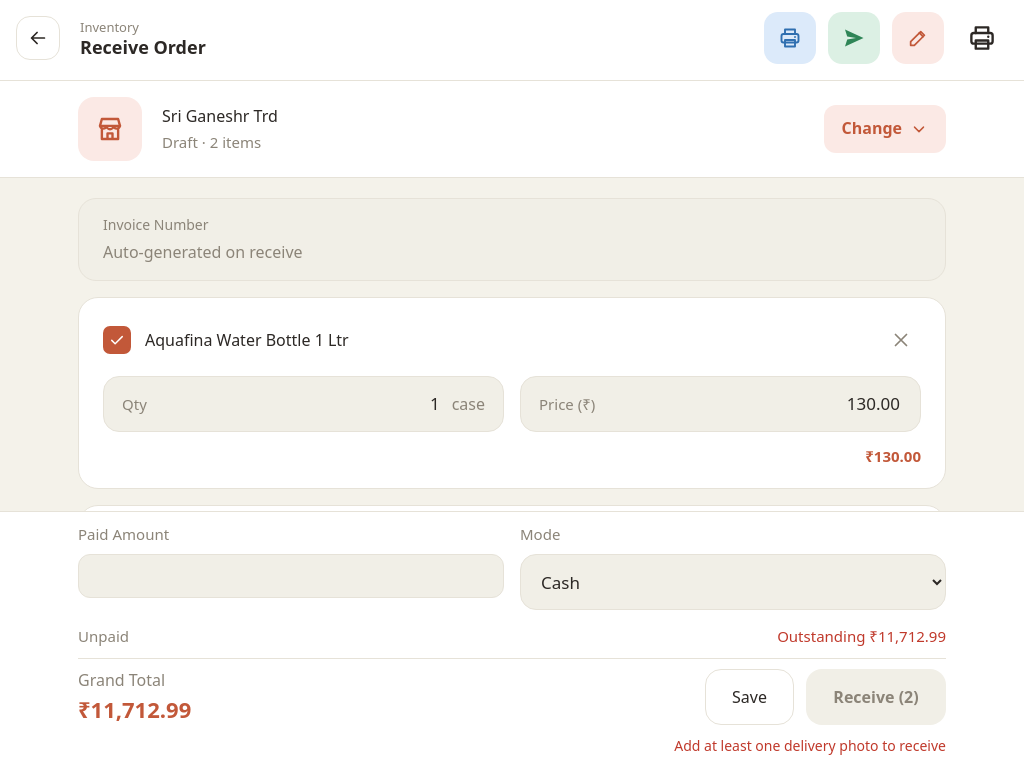
Test: Send to supplier › SND-1. message then PDF, each confirmed; marked sent only once the PDF went
This screenshot has width=1024, height=768.
Expected: the heading "Receive Order" is shown, [80,37,206,58]
Click the button named "Send on WhatsApp".
click(854, 38)  # box [828,12,880,64]
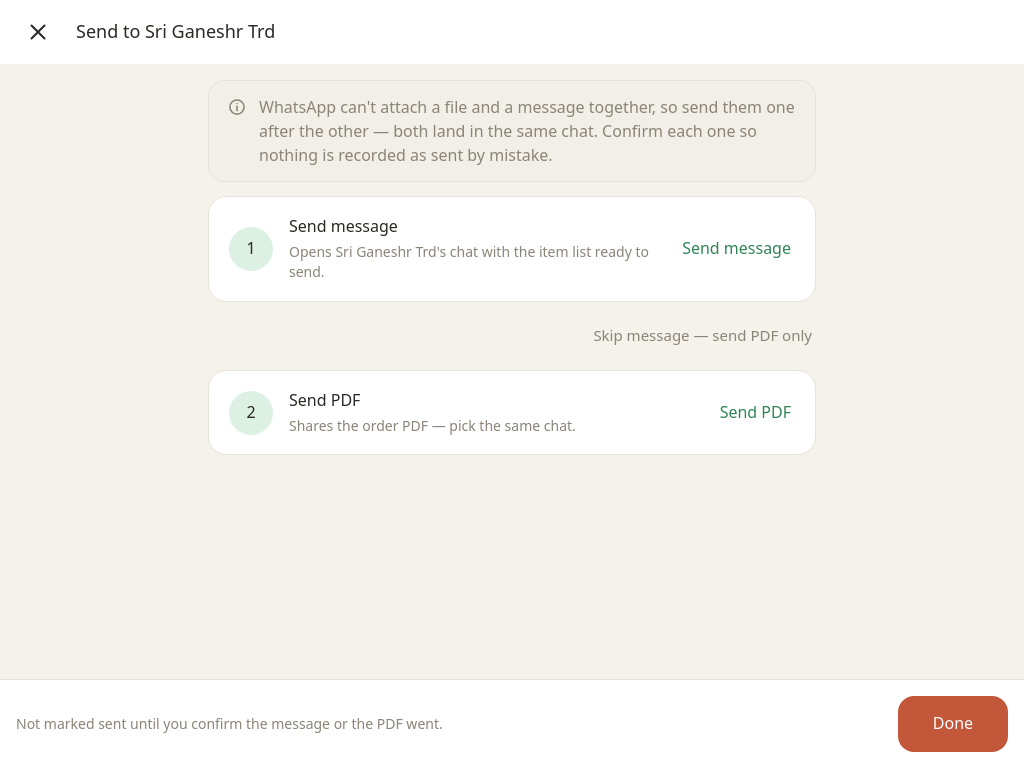
Click the button "Send message".
click(737, 249)  # box [678,227,795,271]
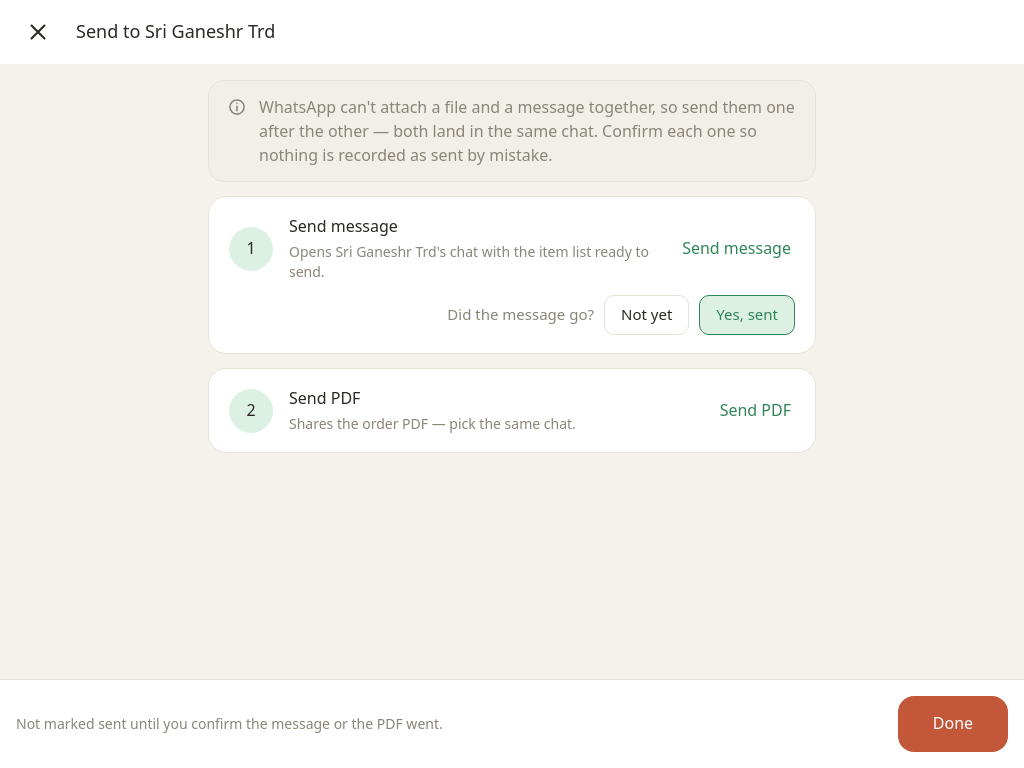
Now the text "Not marked sent until you confirm the message or the PDF went." is shown, box [16,714,443,734]
Click the button "Yes, sent".
click(747, 315)  # box [699,295,795,335]
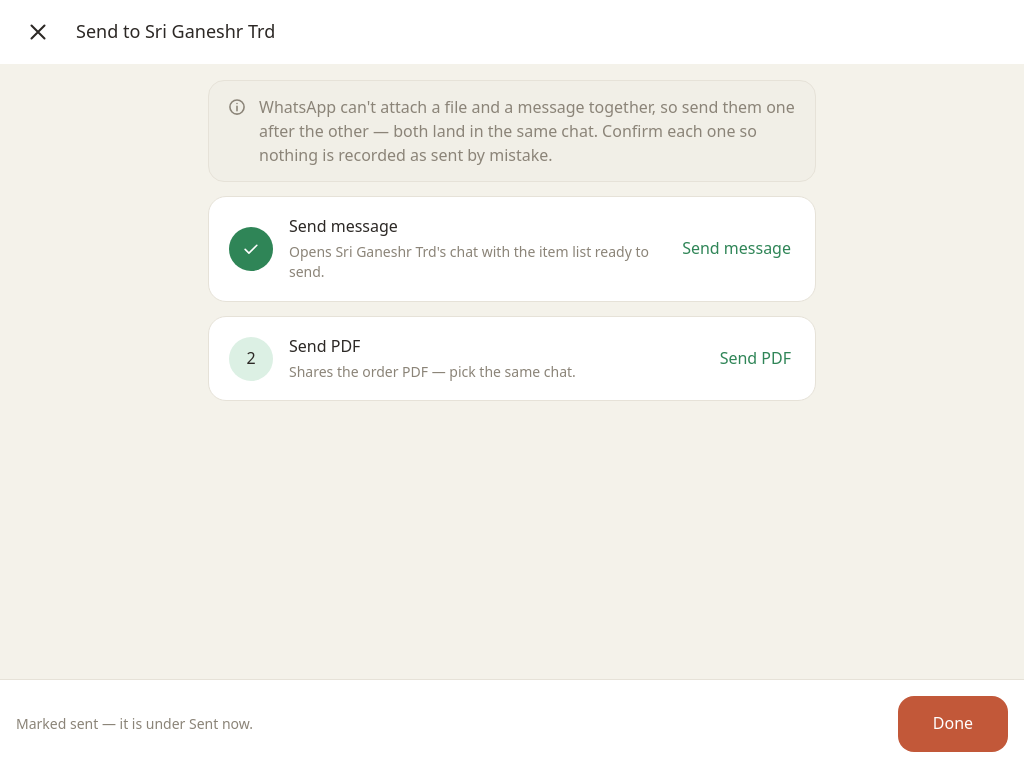
Expected: the button "Skip message — send PDF only" is not shown
Now the text "Marked sent — it is under Sent now." is shown, box [16,714,253,734]
Click the button "Send PDF".
click(755, 358)  # box [716,336,795,380]
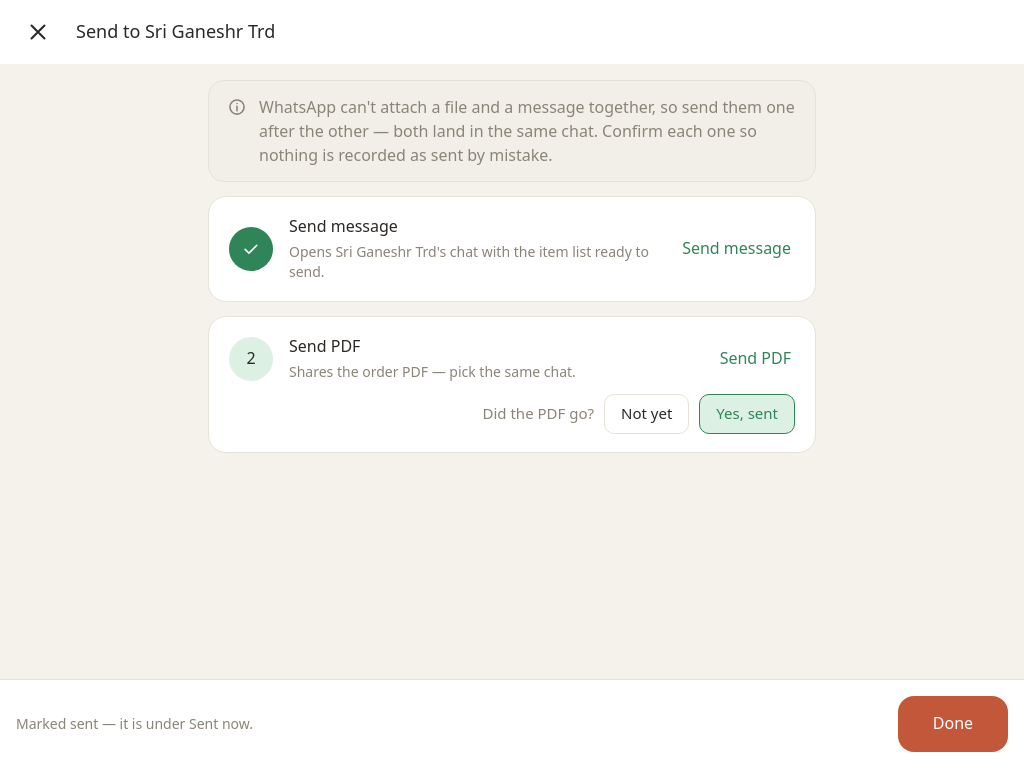
Now the text "Did the PDF go?" is shown, box [482,403,594,425]
Click the button "Yes, sent".
click(747, 414)  # box [699,394,795,434]
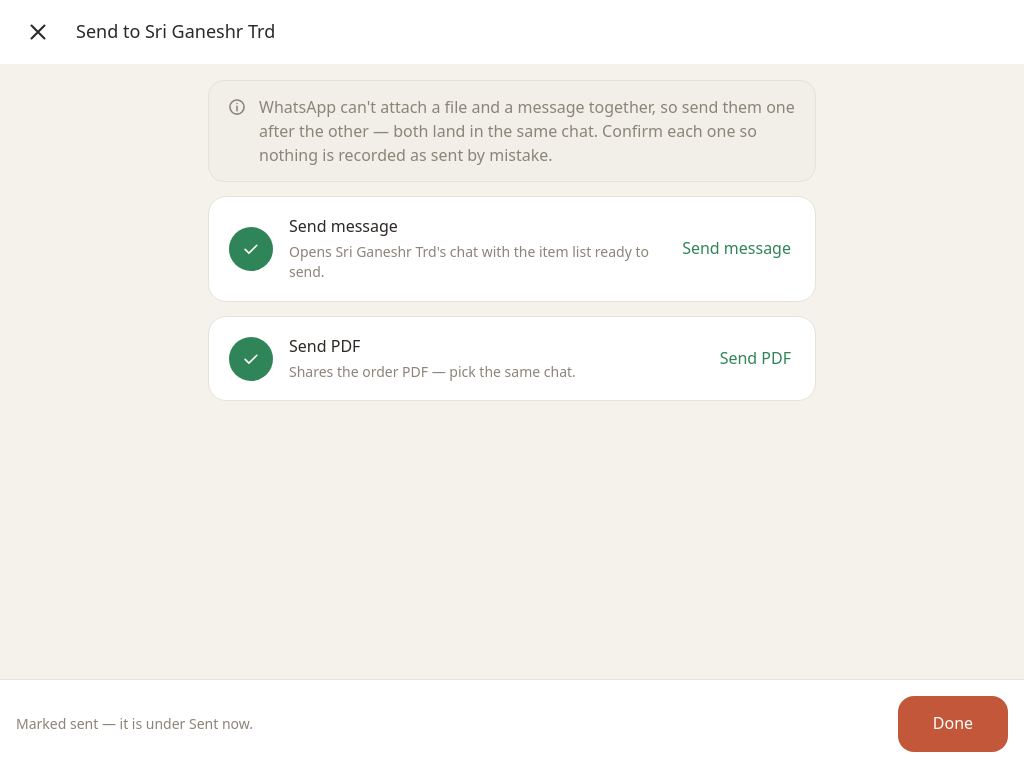
Click the button "Done".
click(953, 724)  # box [898,696,1008,752]
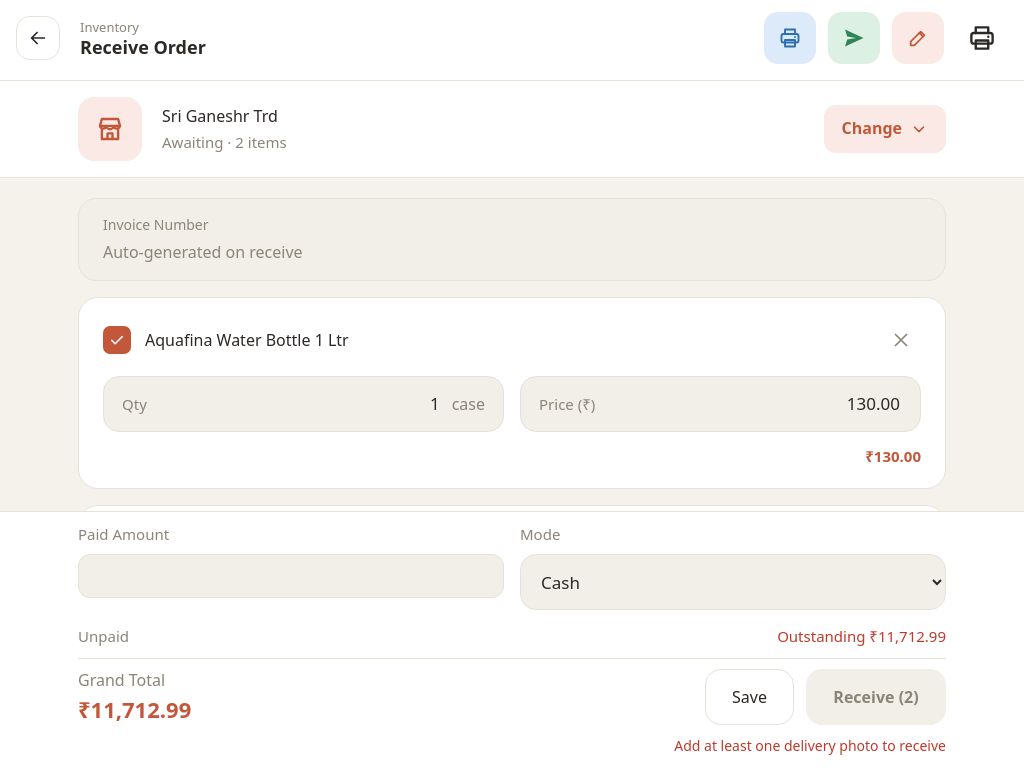
Now the heading "Send to" is gone
